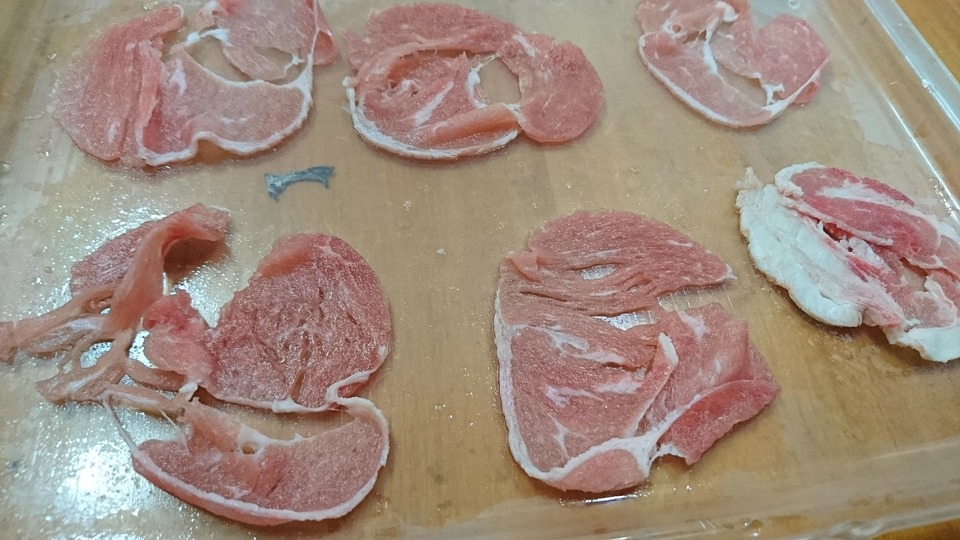restructured meat: (31, 225, 401, 532), (484, 214, 776, 473), (740, 161, 960, 360), (349, 6, 613, 159), (65, 1, 317, 154), (634, 9, 841, 126)
